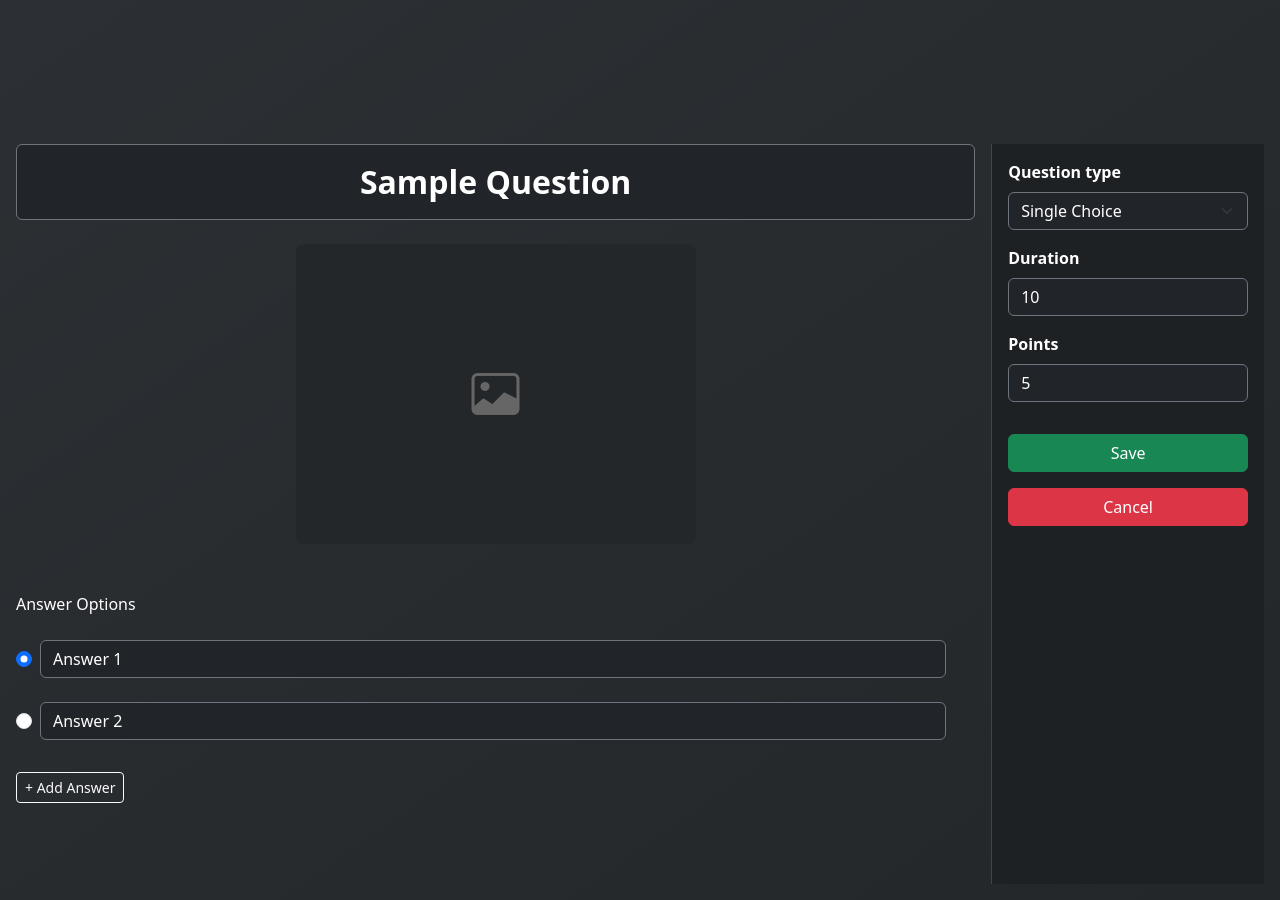
Test: QuestionDetails page buttons › adds and deletes an answer field
Check: the number of fields with placeholder "Answer 1" is 2, box [40, 640, 946, 678]; [40, 702, 946, 740]
Click the button "+ Add Answer" at (70, 787), box [16, 772, 124, 803]
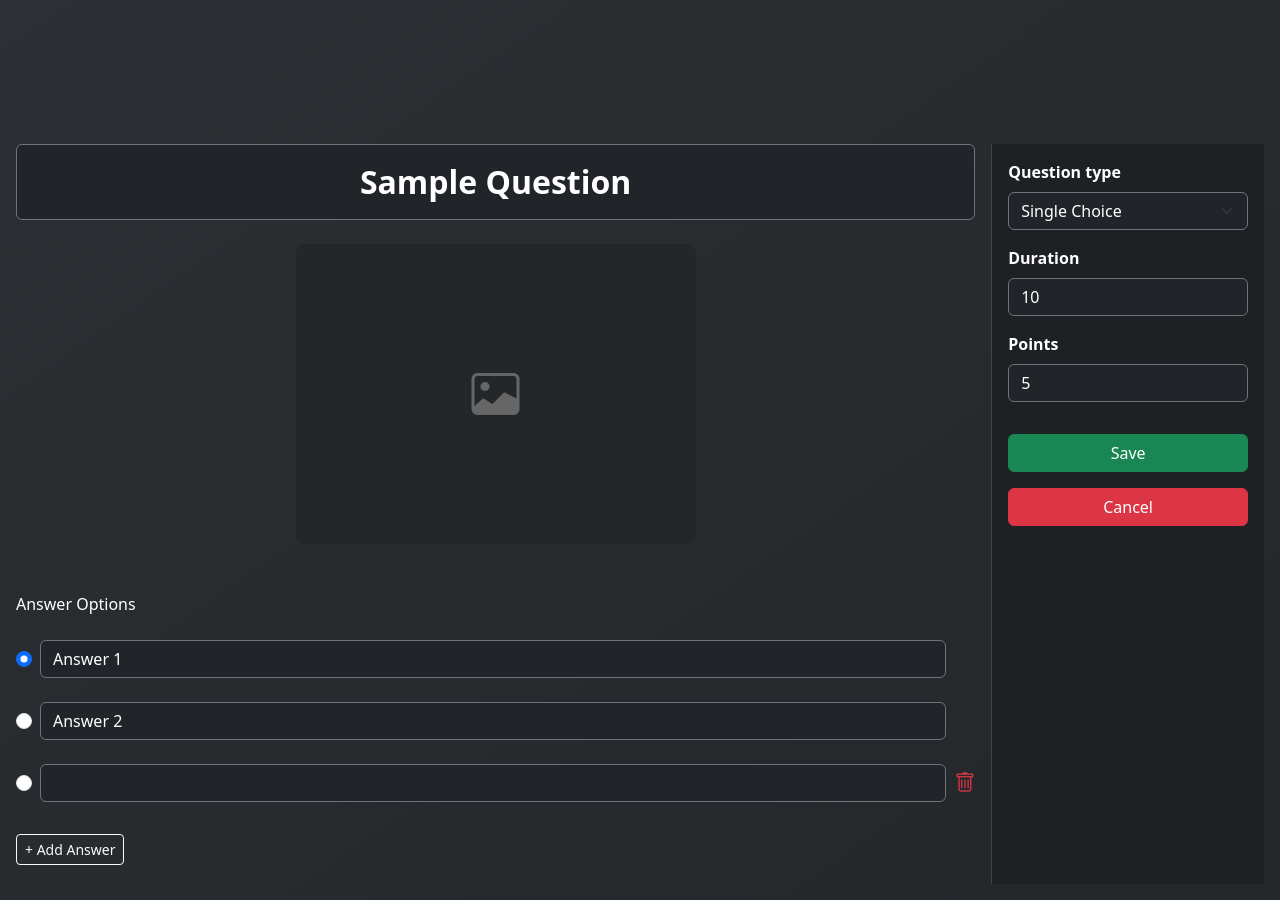
Check: the number of fields with placeholder "Answer 1" is 3, box [40, 640, 946, 678]; [40, 702, 946, 740]; [40, 764, 946, 802]
Click the icon with test id "delete-answer-2" at (965, 783), box [954, 767, 975, 798]
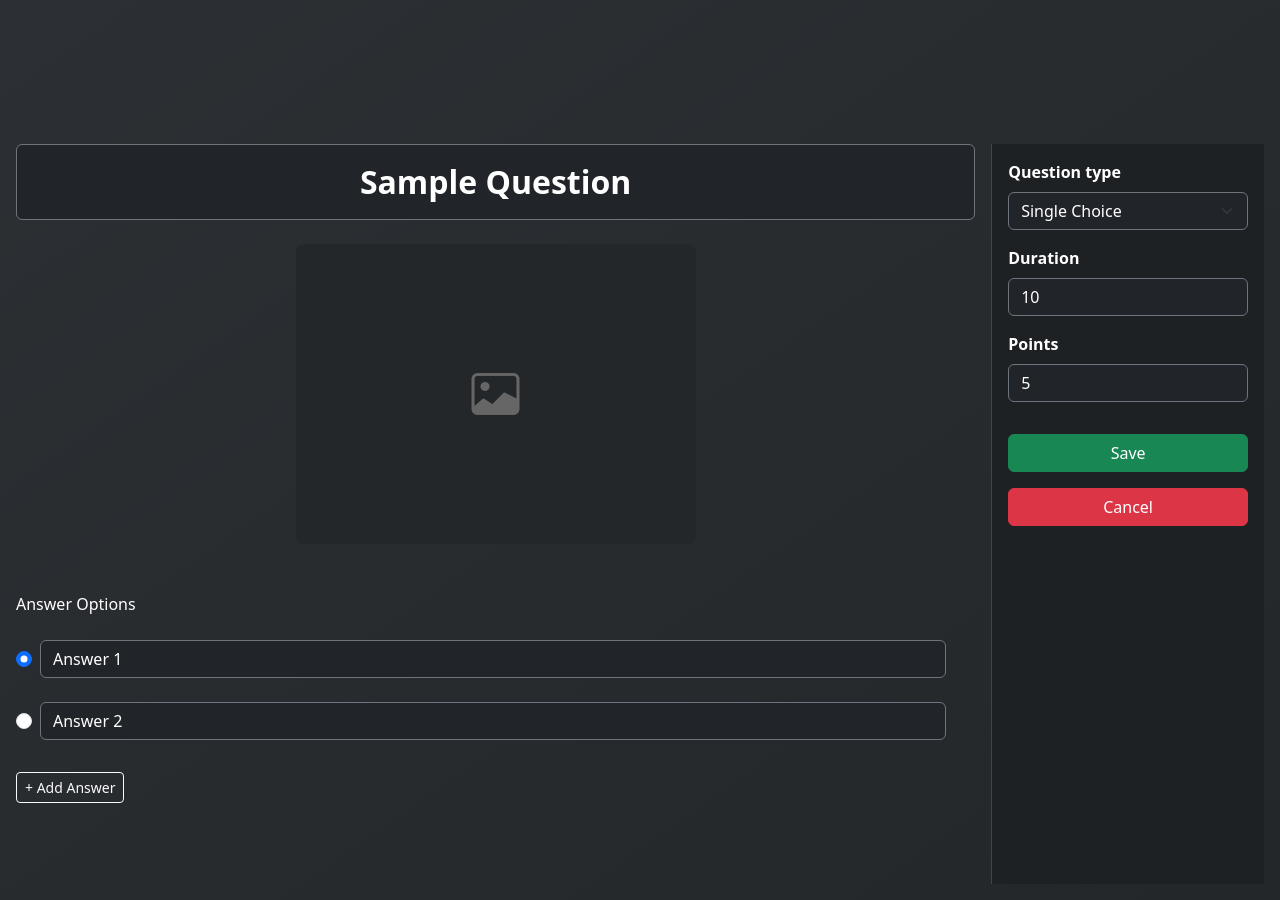
Check: the number of fields with placeholder "Answer 1" is 2, box [40, 640, 946, 678]; [40, 702, 946, 740]
